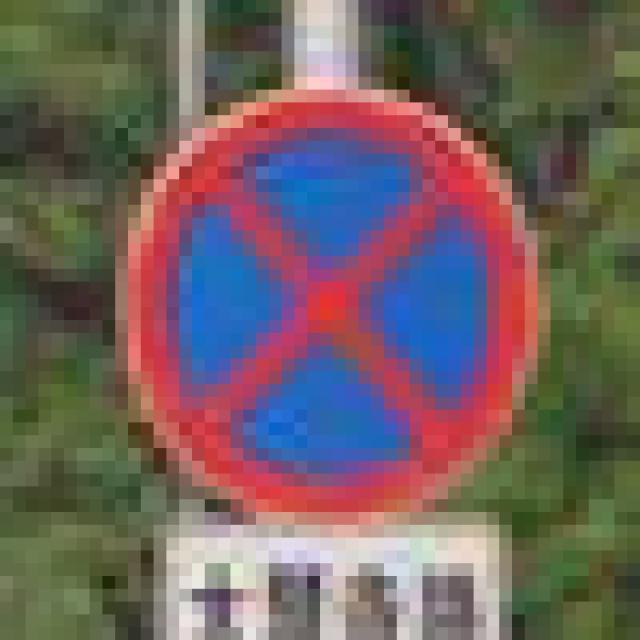no stopping or standing: (120, 90, 537, 509)
